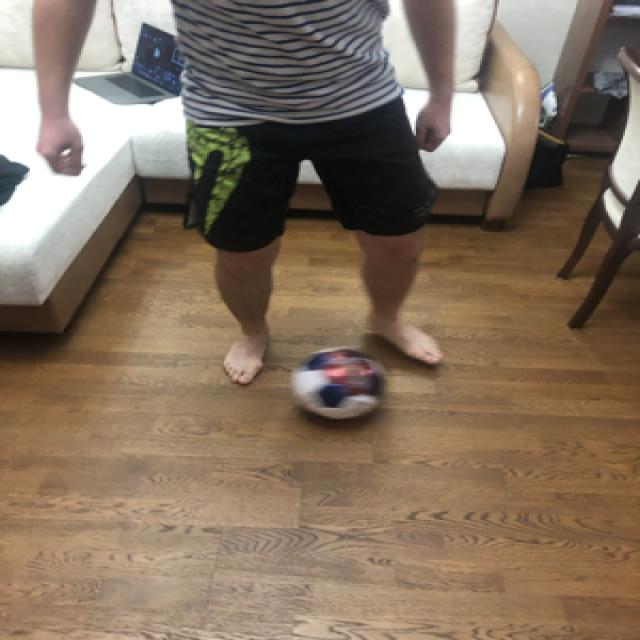soccer_ball: (286, 344, 388, 419)
